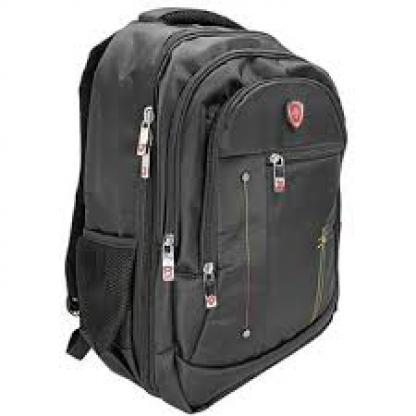morral: (66, 2, 350, 414)
